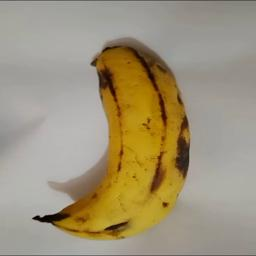Banana Semifresh: (29, 37, 192, 239)
